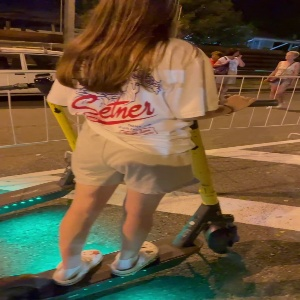human on a scooter: (1, 1, 281, 300)
